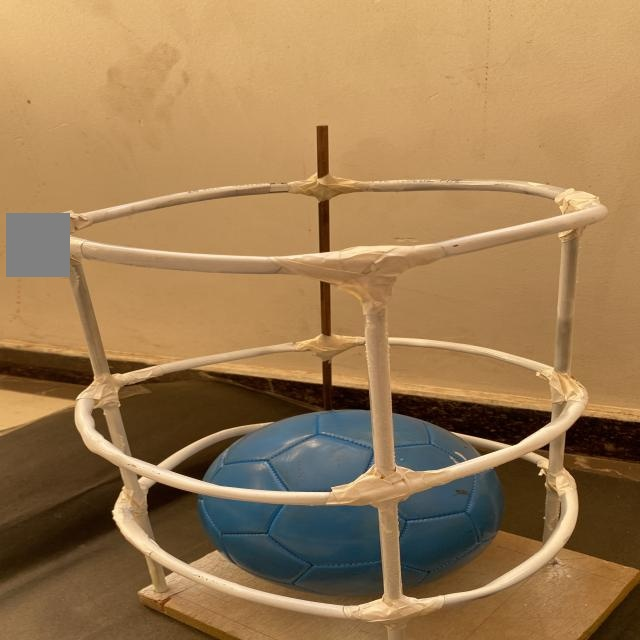blue_ball: (181, 407, 492, 584)
silo: (3, 125, 640, 640)
